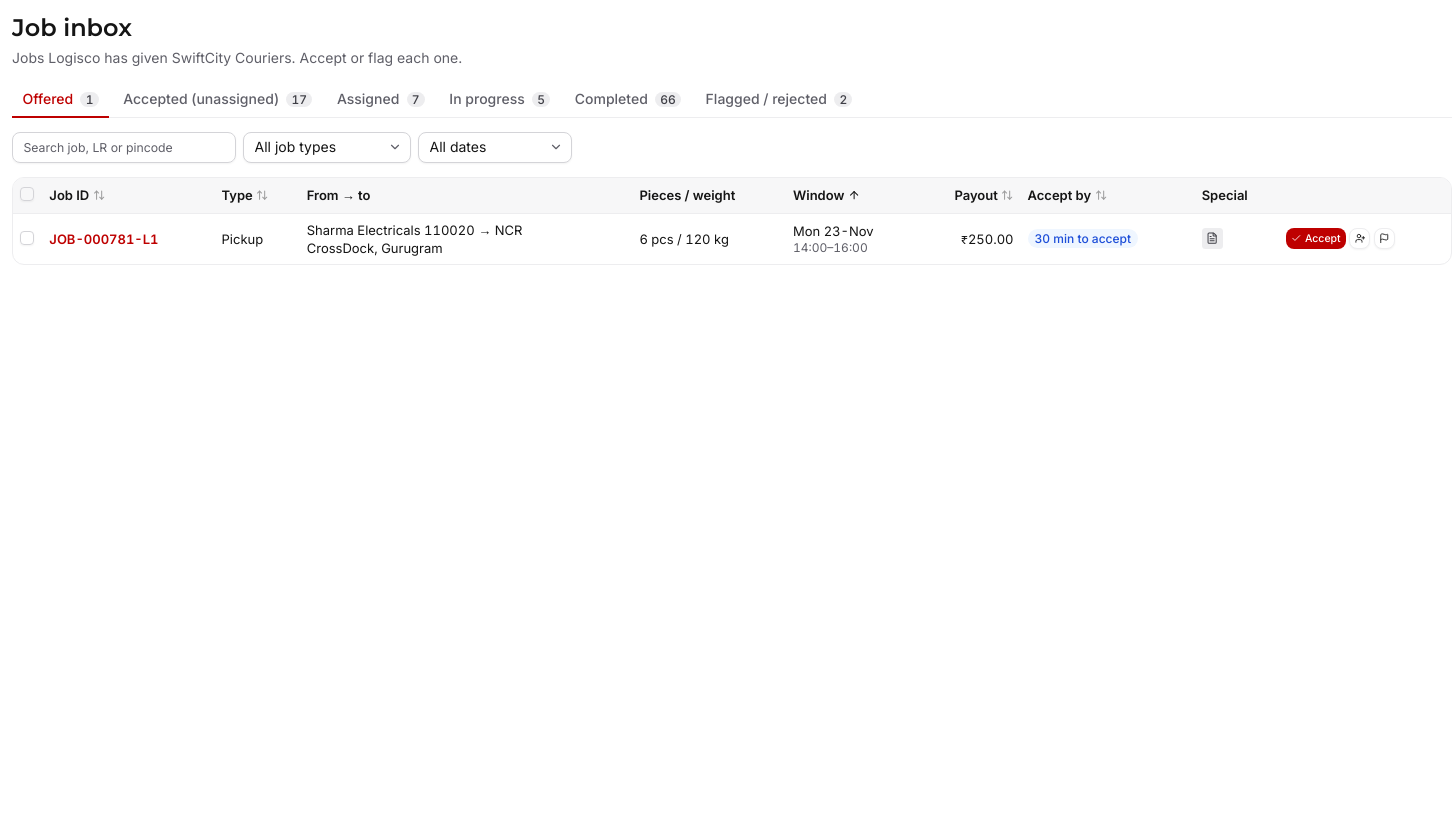
Test: SwiftCity takes the hero pickup (PP-12 → PP-14 → PP-13) › Neha sees the offer, accepts and assigns Ravi with his tempo
This screenshot has width=1452, height=818.
Expected: the text "JOB-000781-L1" shows "Pickup", [222,230,263,246]
Expected: the text "JOB-000781-L1" shows "Sharma Electricals 110020 → NCR CrossDock, Gurugram", [13,213,1451,264]
Click the button named "Accept and assign" at (1360, 238), box [1349,228,1370,249]
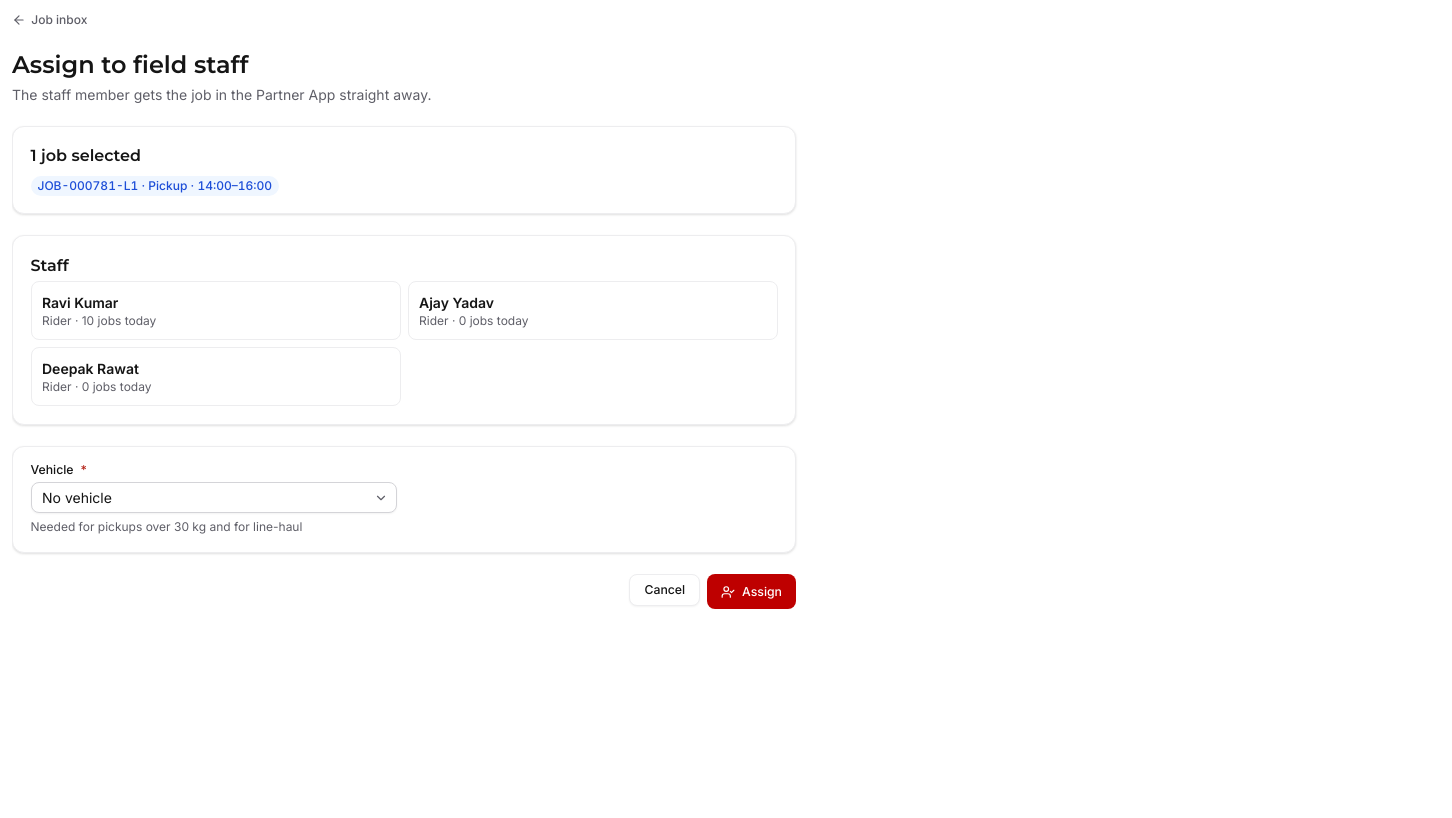
Expected: the heading "Assign to field staff" is shown, [12,50,248,79]
Click the radio button labelled "Ravi Kumar Rider · 10 jobs today" at (80, 302), box [30,281,400,340]
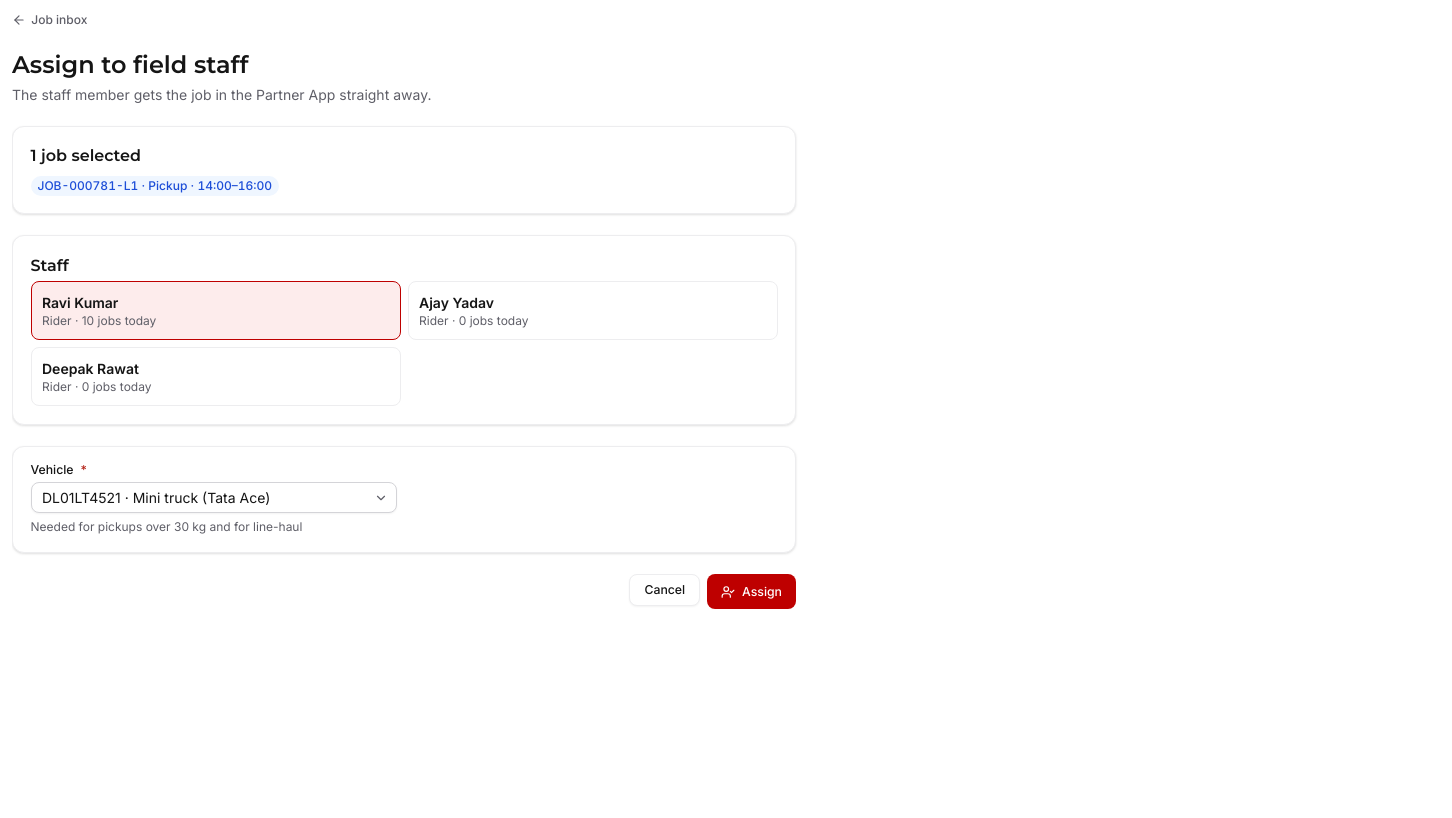
Expected: the dropdown labelled "Vehicle" shows "DL01LT4521 · Mini truck (Tata Ace)", [30,482,397,513]
Click the button "Assign" at (752, 592), box [707,574,796,609]
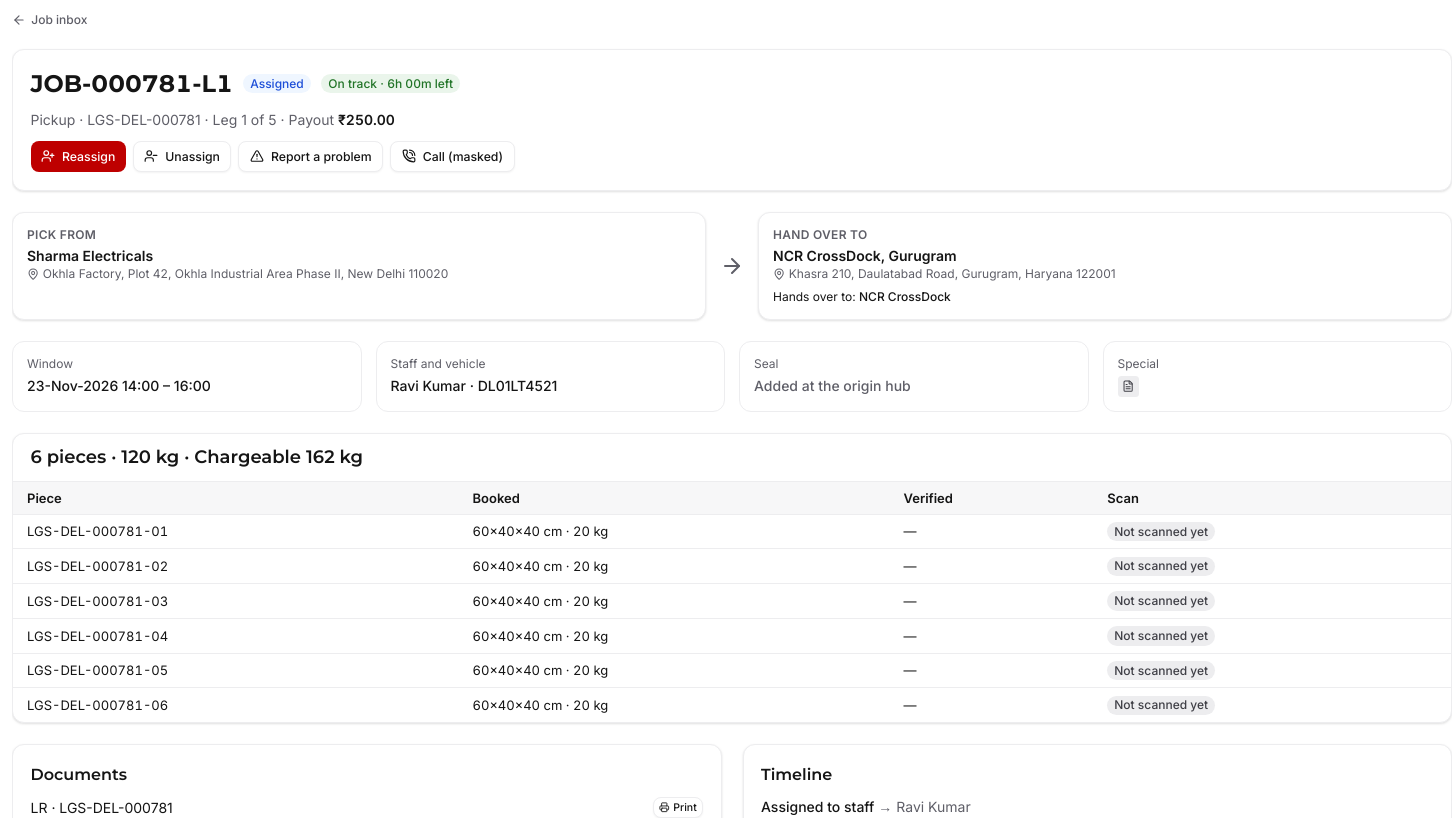
Expected: the heading "JOB-000781-L1" is shown, [30,68,233,100]
Expected: the text "Ravi Kumar · DL01LT4521" is shown, [390,376,557,394]
